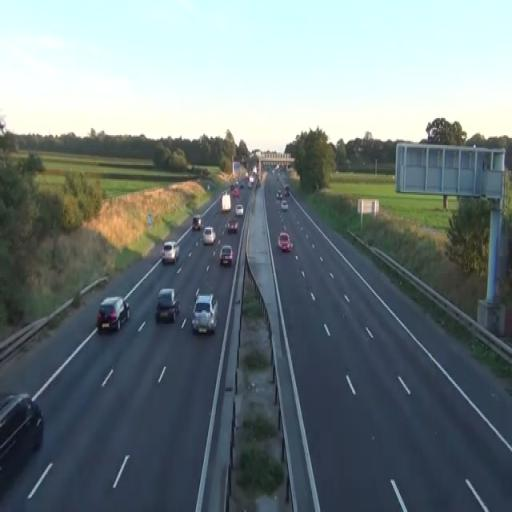Car: (0, 392, 44, 486), (97, 296, 130, 333), (192, 292, 218, 335), (155, 288, 180, 324), (161, 240, 180, 264), (219, 245, 234, 267), (278, 232, 292, 252), (202, 227, 216, 245), (192, 215, 203, 230), (228, 218, 238, 234), (235, 204, 244, 216)
